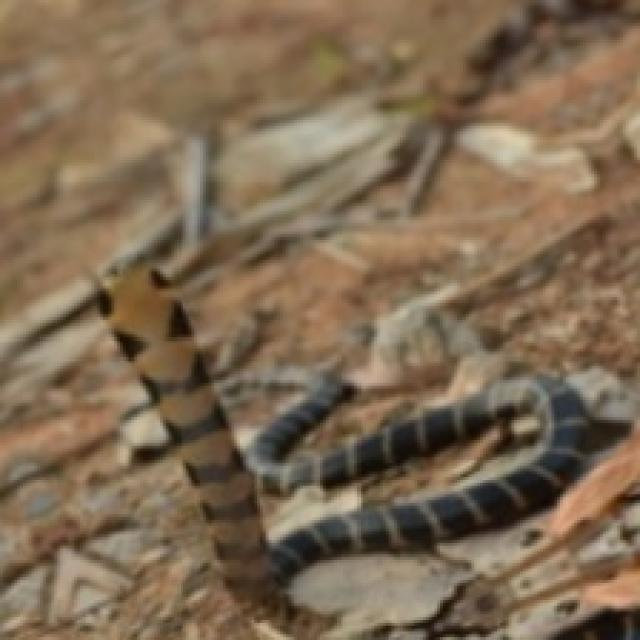king cobra: (100, 266, 637, 637)
